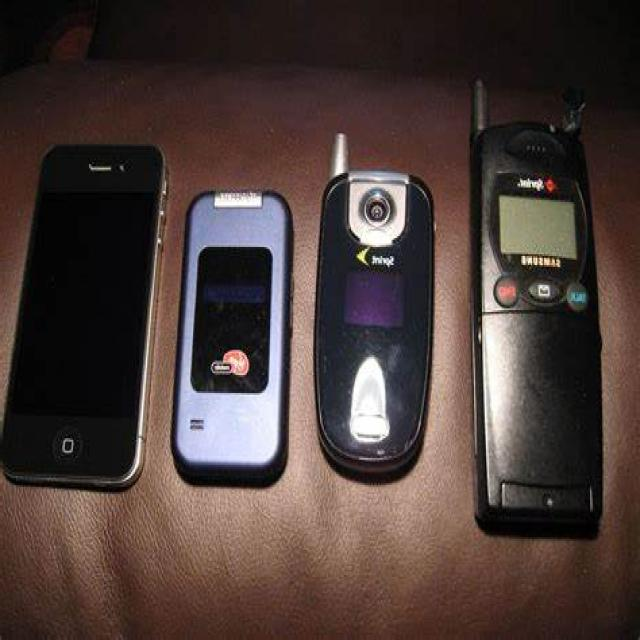mobile: (0, 144, 166, 498), (471, 117, 606, 544), (313, 169, 433, 487), (170, 189, 294, 492)
